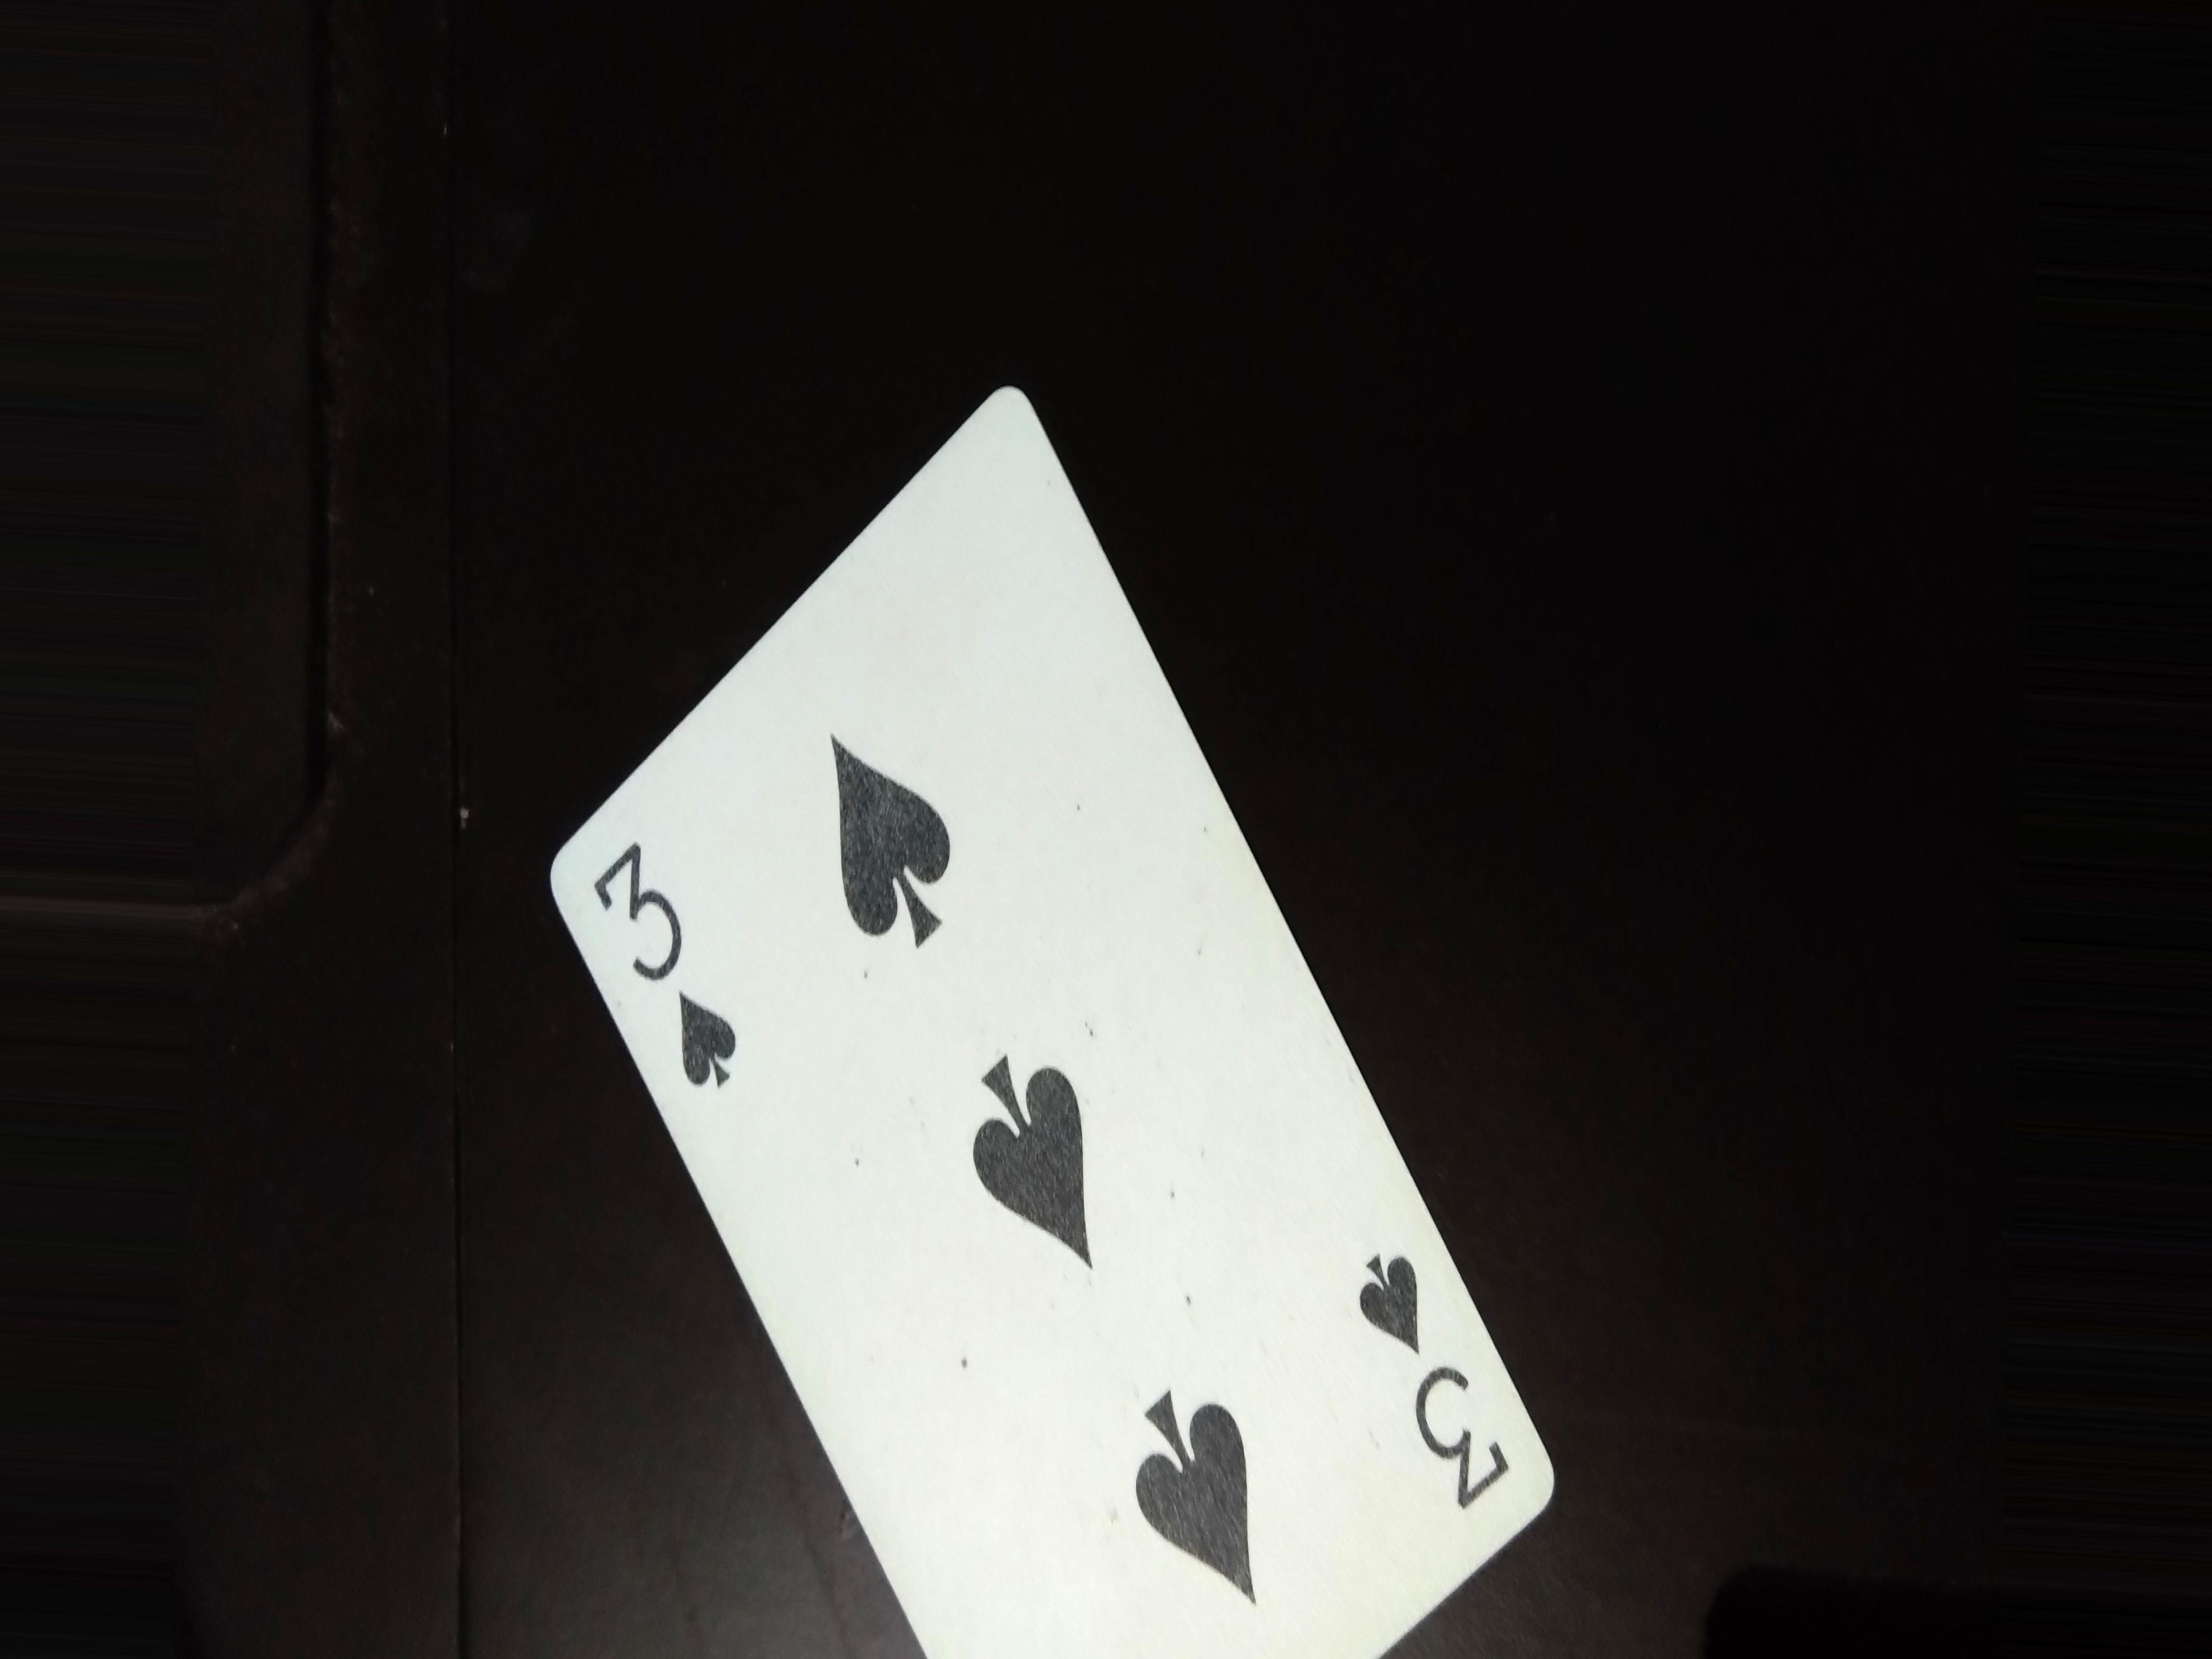3S: (590, 842, 756, 1100)
